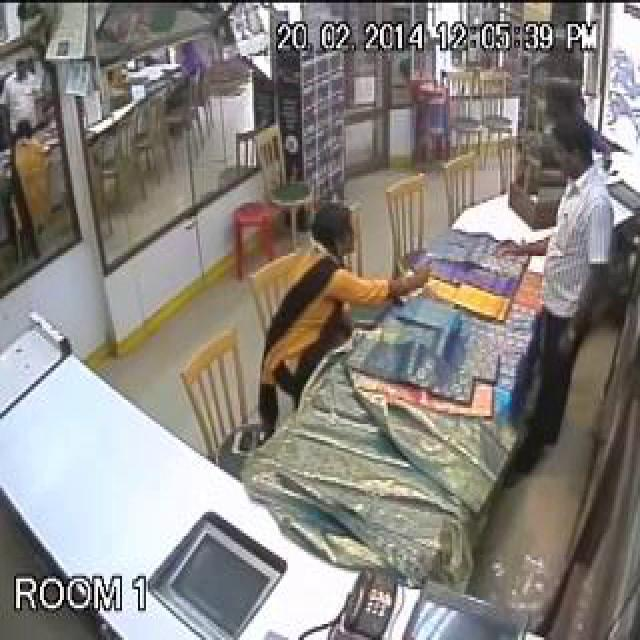shoplifting: (263, 162, 552, 499)
